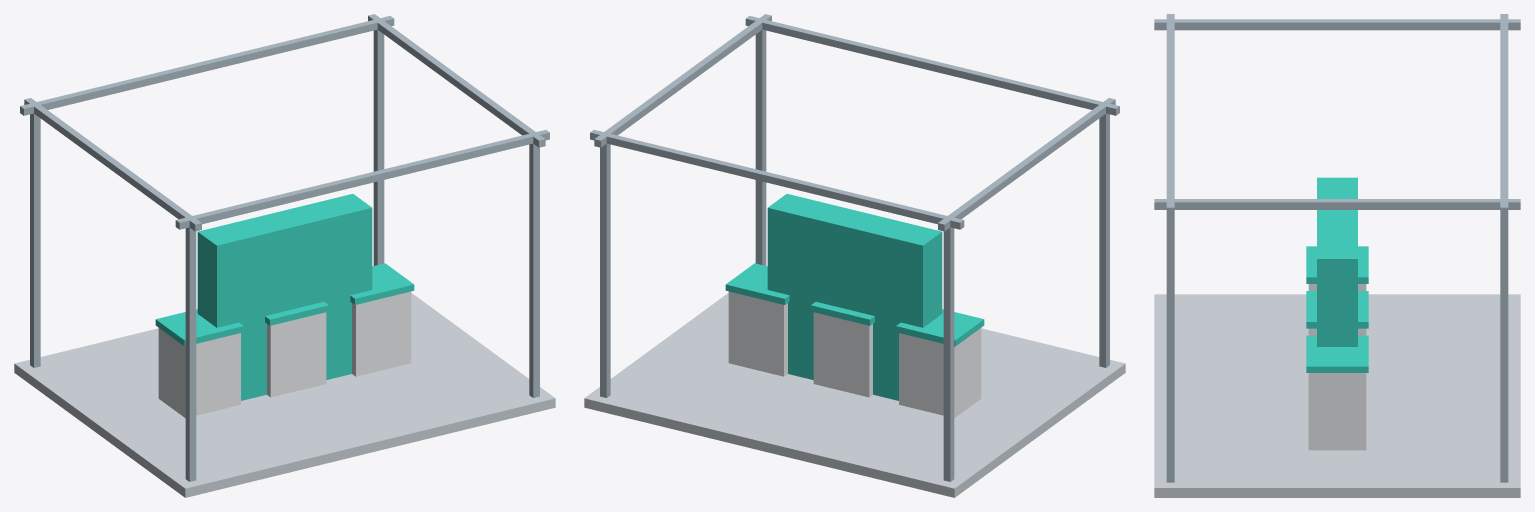
The picture shows the model from 3 angles, left to right: view 1: azimuth 30°, elevation 25°; view 2: azimuth 150°, elevation 25°; view 3: azimuth 270°, elevation 25°; orthographic projection. The views are drawn at different scales.
Visible parts, largest first — view 1: Exhibition Booth Concept; view 2: Exhibition Booth Concept; view 3: Exhibition Booth Concept.
Part boxes in pixels (x1,y1,x2,y2): Exhibition Booth Concept: (14, 14, 555, 497); Exhibition Booth Concept: (584, 14, 1125, 497); Exhibition Booth Concept: (1154, 14, 1520, 497).
Size of the model in its own units: 5 by 3.49 by 4.
